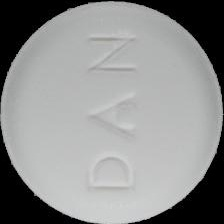55289-049: (0, 0, 224, 224)
